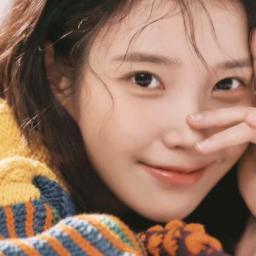face: (80, 0, 252, 222)
